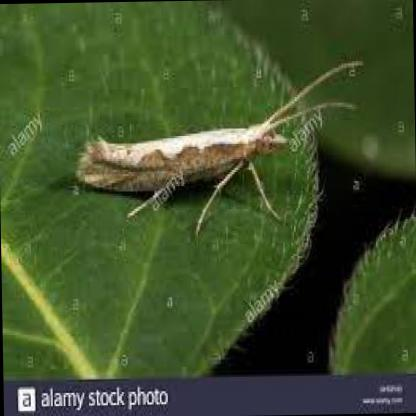plutella: (82, 60, 362, 229)
